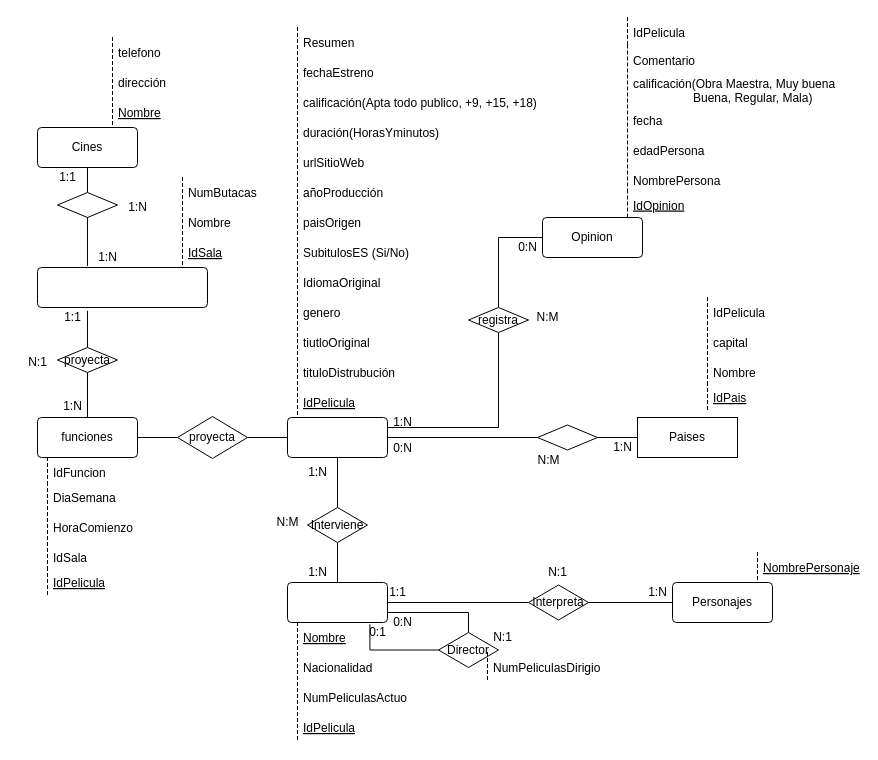
Image size: 878x760. Some labels were removed from this diagram. The centre of each missing label's shape, as x and y in pixels:
Actor/a: point (337, 602)
origen: point (567, 437)
Peliculas: point (337, 437)
posee: point (87, 205)
Salas: point (122, 287)
